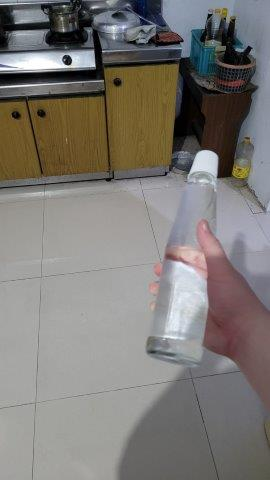botolkaca: (146, 148, 224, 372)
